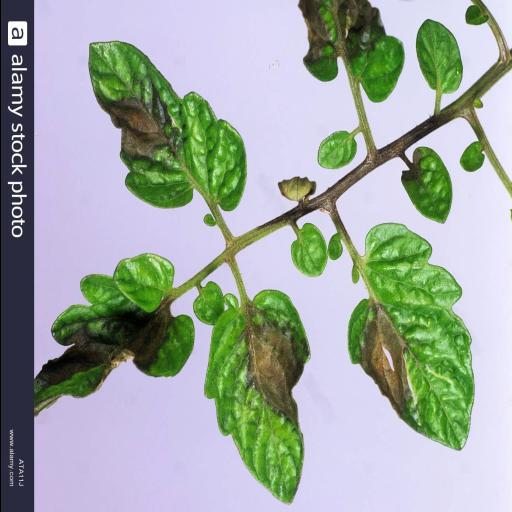Late Blight: (346, 224, 474, 452), (34, 253, 196, 419), (88, 41, 246, 211), (204, 290, 310, 504), (296, 0, 404, 103)
